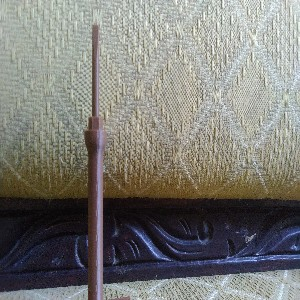obeng: (84, 23, 107, 300)
